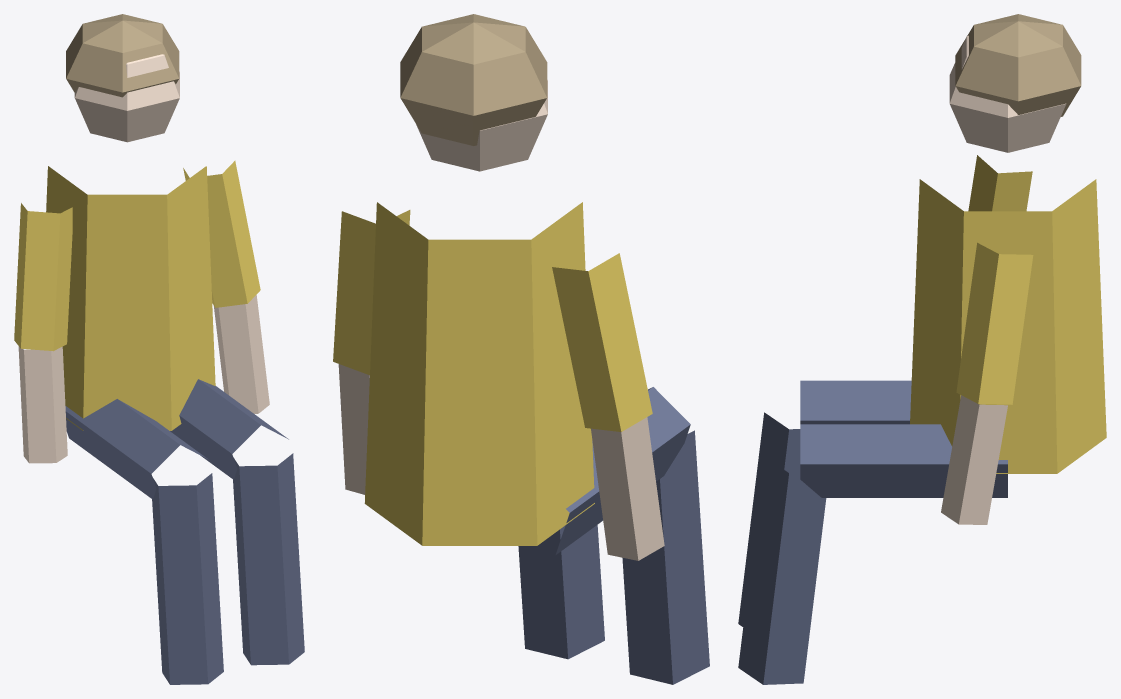
The model's file is person_sit.glb.
3 views of the same model, side by side, from view 1: azimuth 30°, elevation 25°; view 2: azimuth 150°, elevation 25°; view 3: azimuth 270°, elevation 25° (orthographic). The views are drawn at different scales.
Parts seen in each view (by area): view 1: person_sit; view 2: person_sit; view 3: person_sit.
Boxes of the visible parts, <box> form: person_sit: <box>14,14,304,684</box>; person_sit: <box>333,14,709,684</box>; person_sit: <box>738,14,1106,684</box>.
Bounding box in the file's own units: 0.595 × 1.34 × 0.7096.
